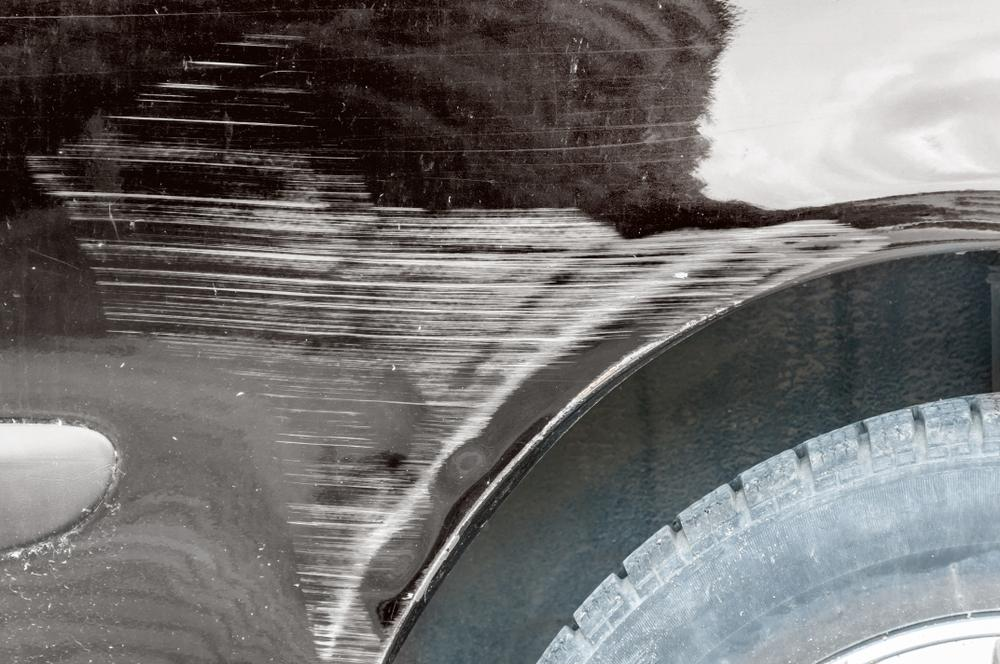scratch: (27, 22, 895, 664)
